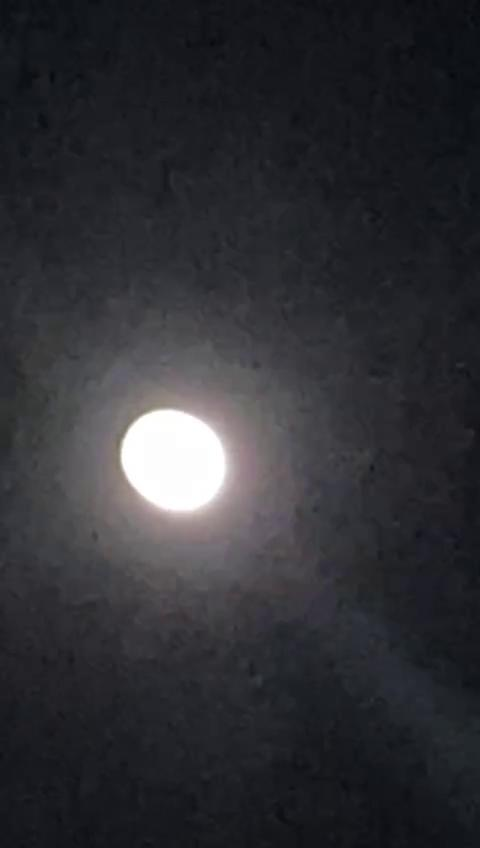moon: (108, 402, 246, 528)
